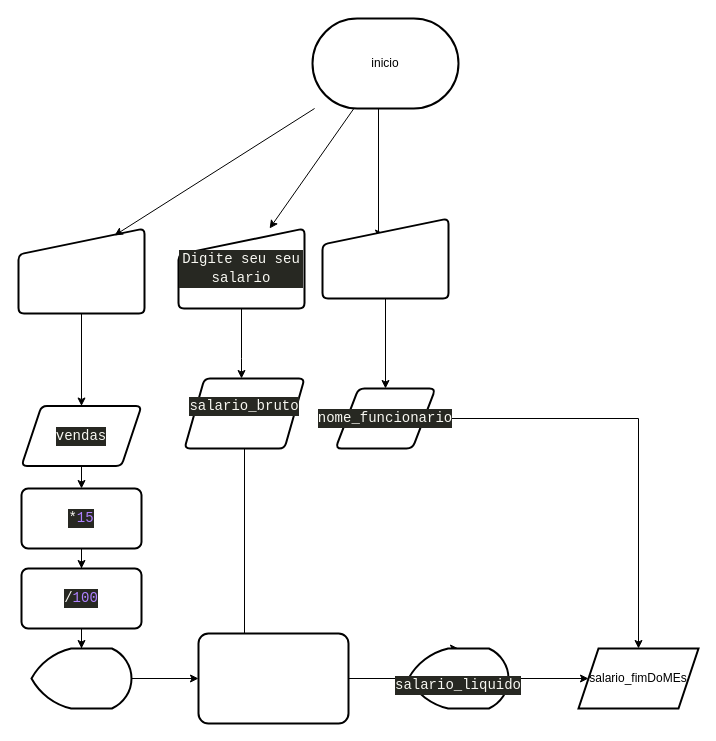
This 716x741 diagram has some shape labels left out. The shapes that lost their labels are listed below. From the top down, each one's centre as x and y in pixels, then its label:
At (81,270): "Digite valor das vendas em $".
At (385,258): "Digite seu nome".
At (81,678): "comissao_vendas".
At (273,678): "comissao_vendas + salario_bruto".
